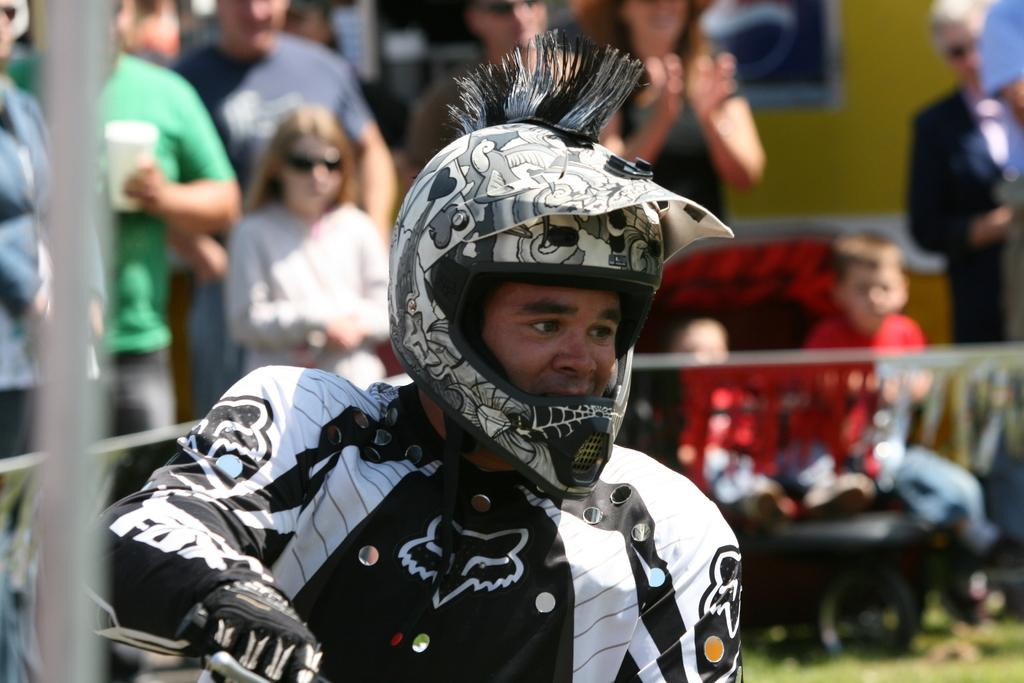helmet: (386, 120, 665, 501)
nohelmet: (271, 106, 353, 214), (831, 231, 910, 337)
